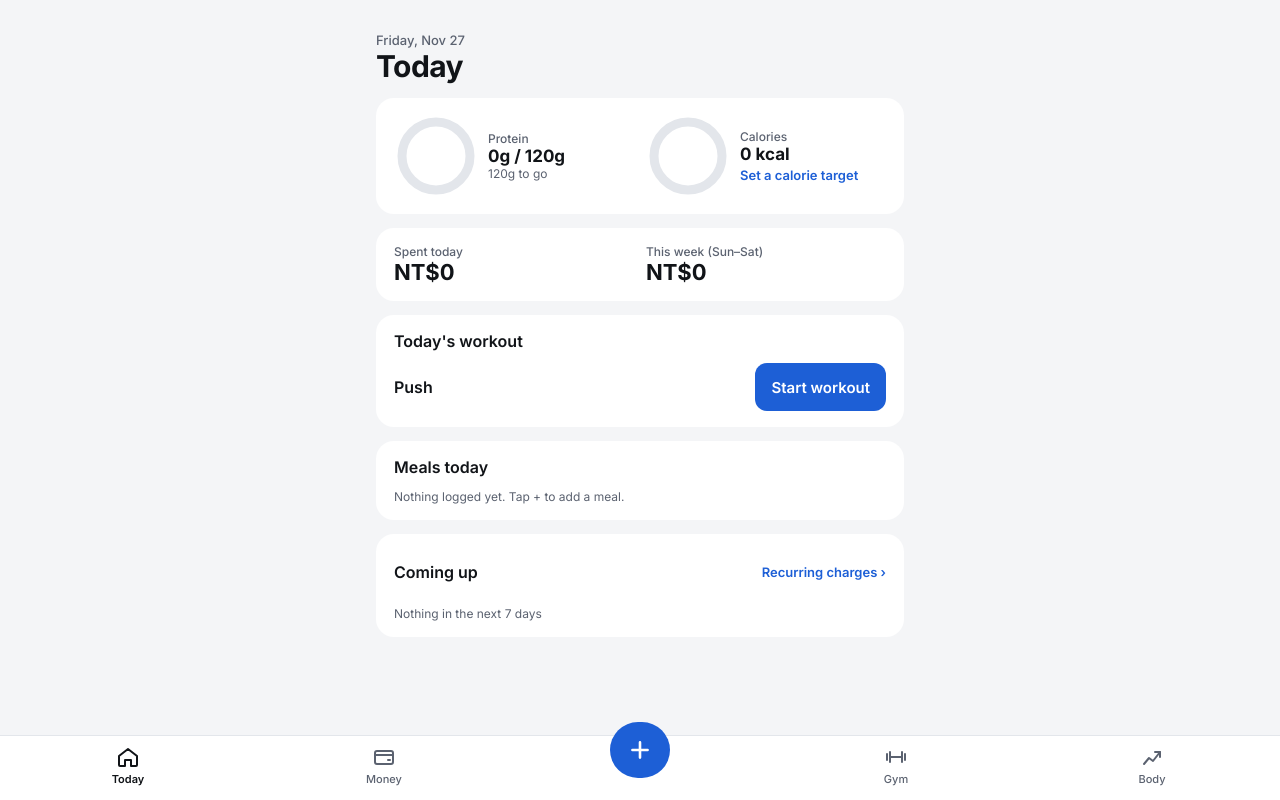
Test case: Today's Start workout with another workout open goes to Gym's question
Click the button "Start workout" at [821, 387], box [756, 363, 886, 411]
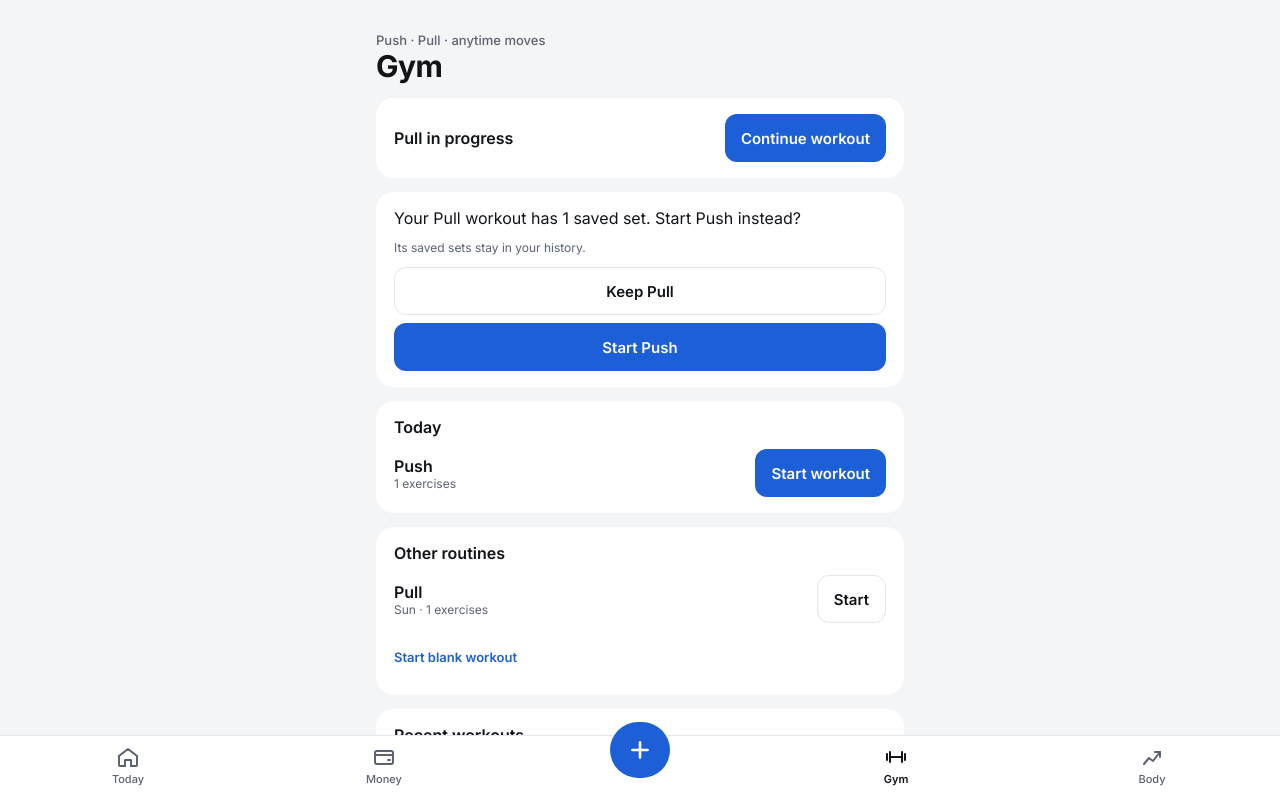
Expected: the element named "Switch workout" shows "Start Push instead?", [394, 208, 801, 228]
